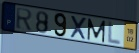8: (35, 11, 50, 35)
9: (53, 12, 69, 39)
L: (106, 20, 122, 47)
M: (87, 18, 107, 44)
R: (15, 7, 34, 32)
X: (69, 14, 87, 41)
